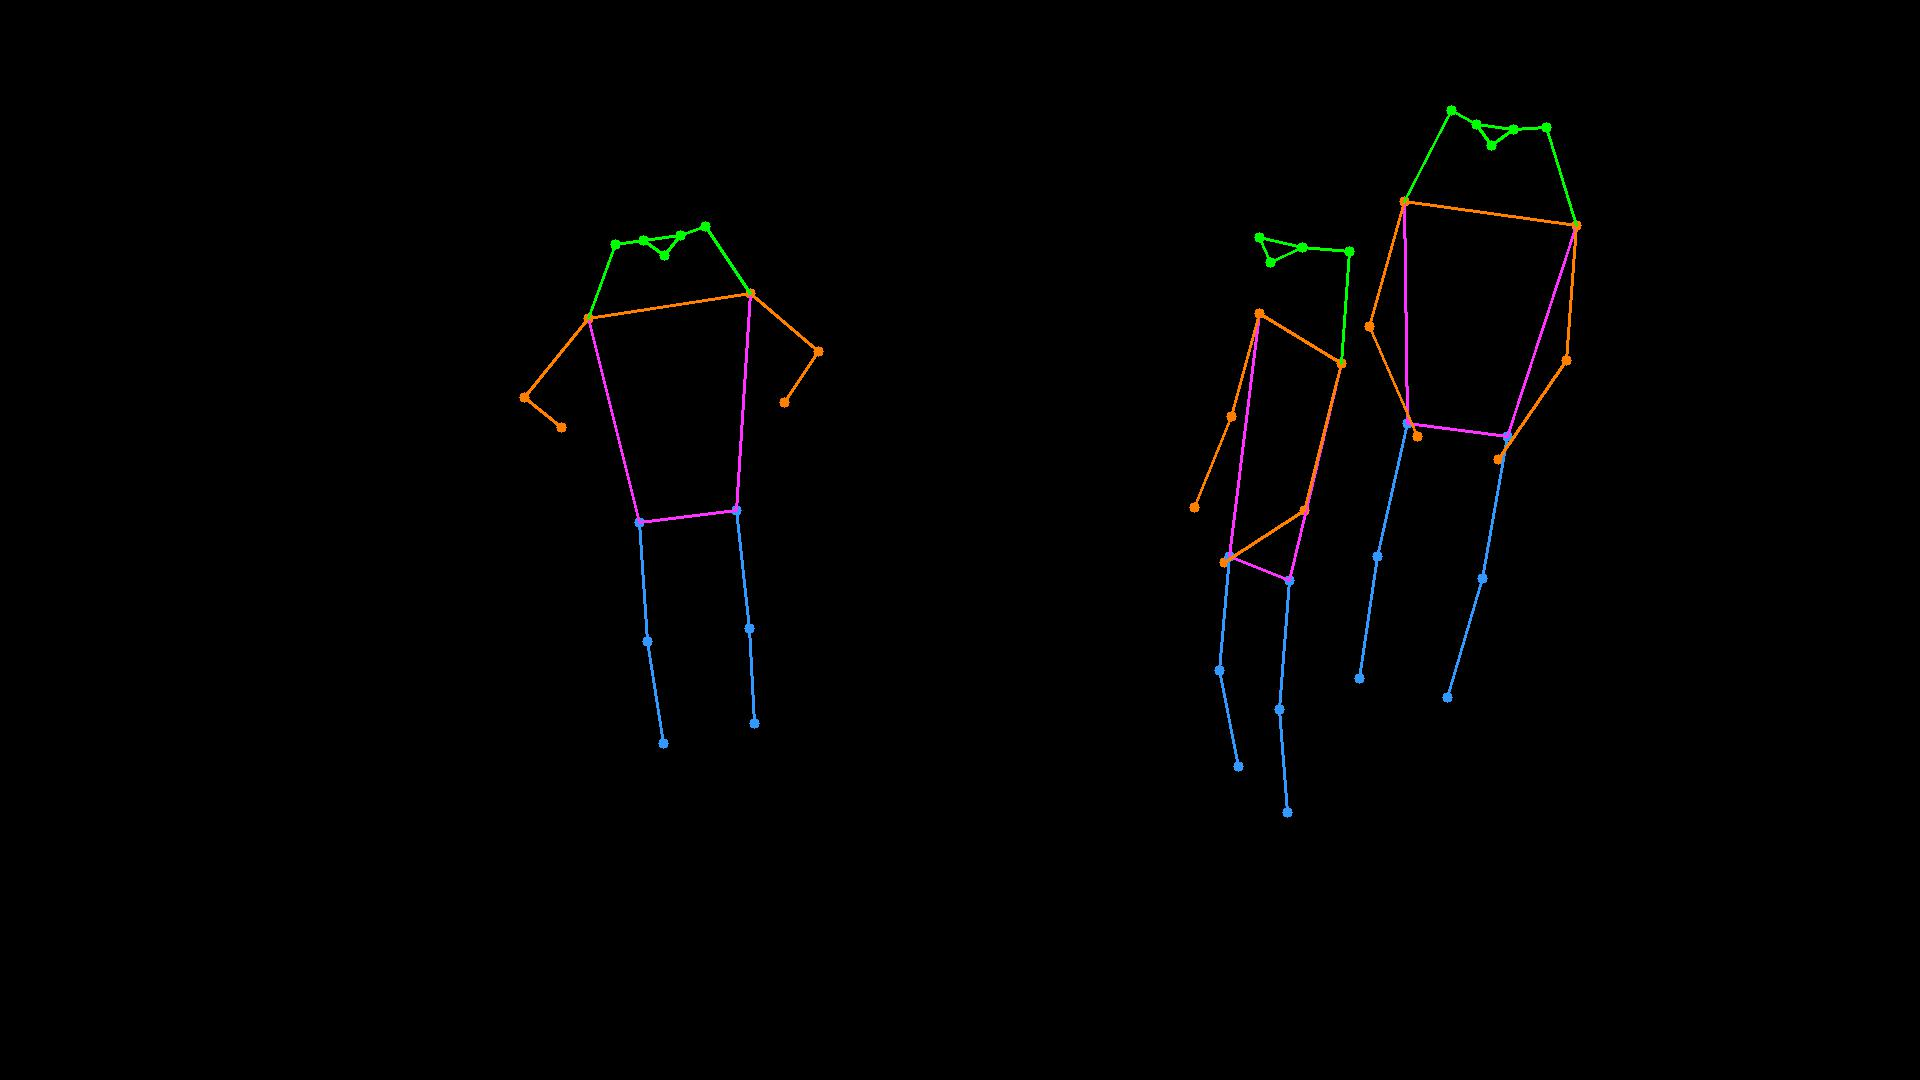normal: (1116, 55, 1631, 890)
